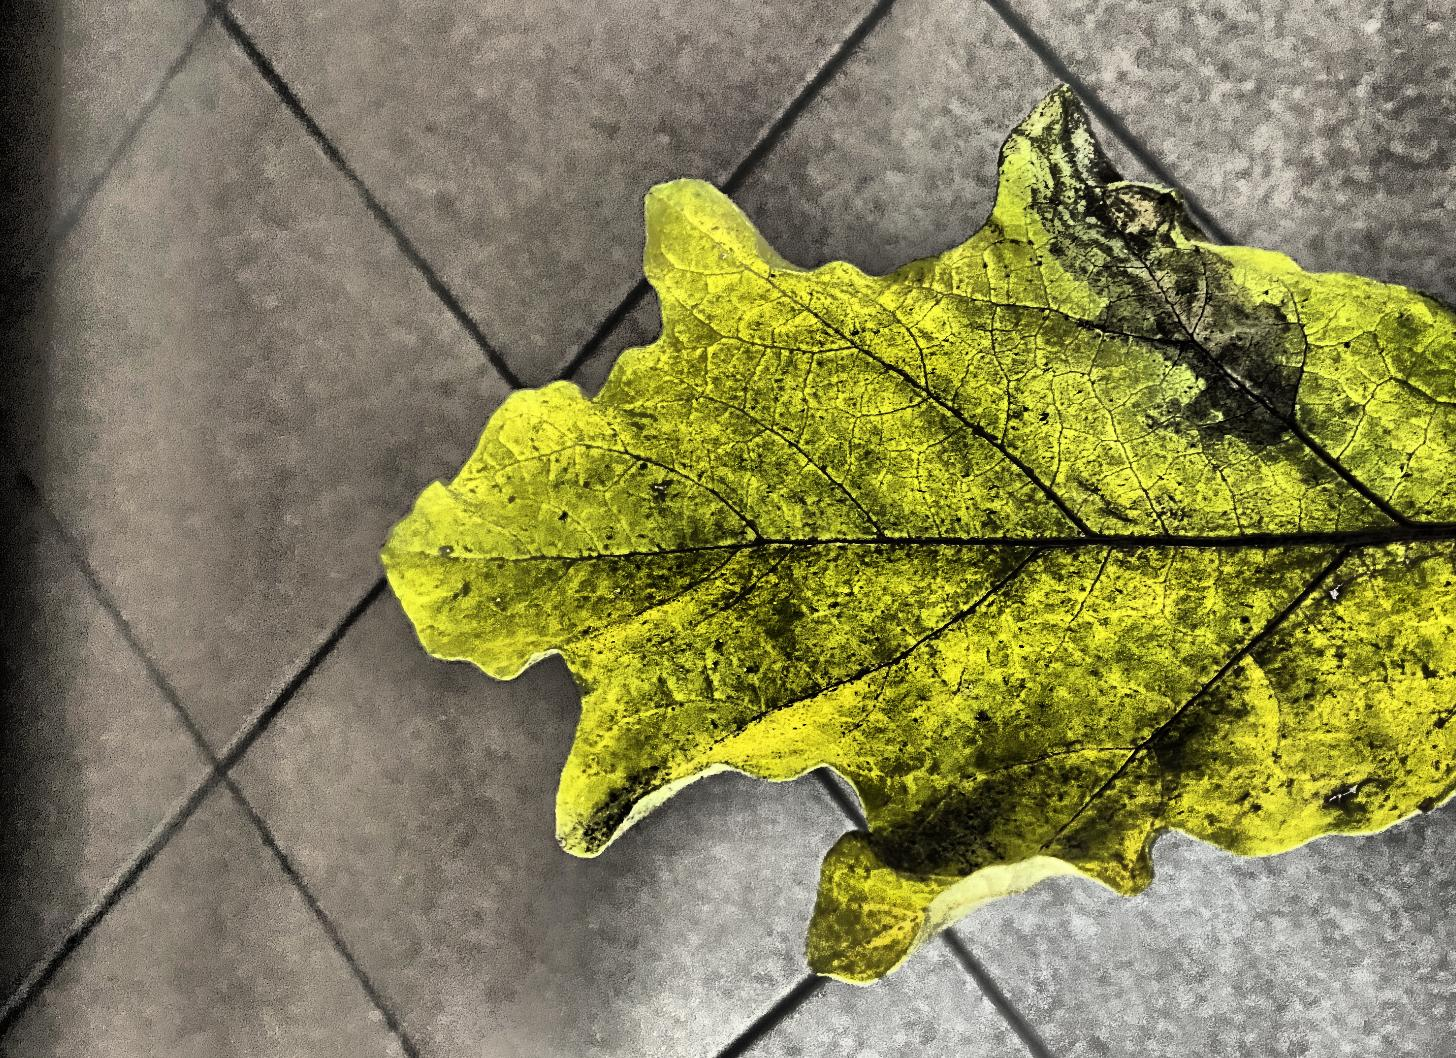Critical Stress: (0, 106, 1054, 1058)
